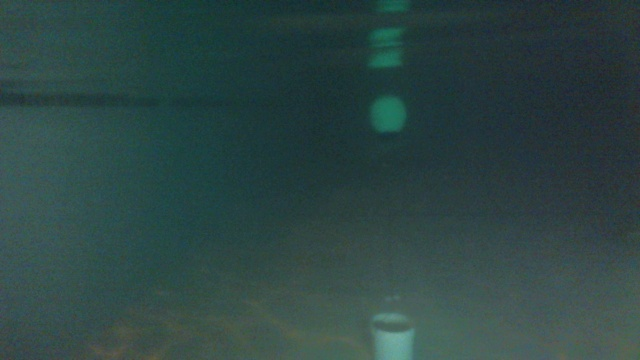buoy_green: (367, 91, 408, 144)
